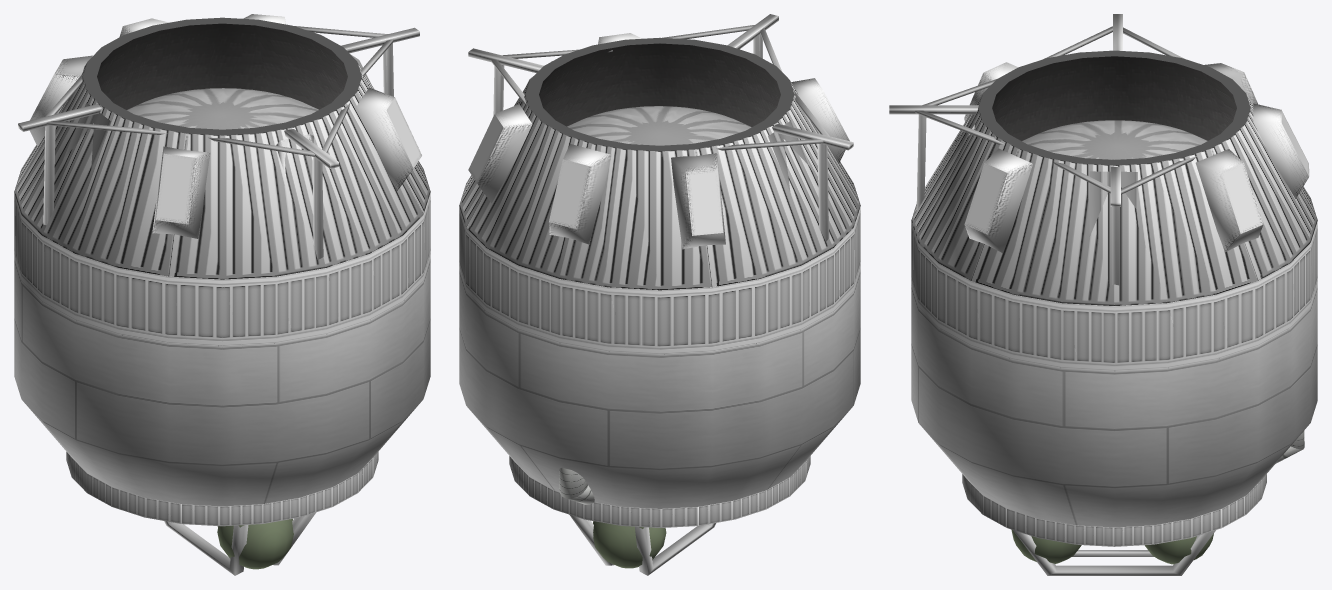
The model's file is CENTAUR_G.obj.
3 views of the same model, side by side, from view 1: azimuth 30°, elevation 25°; view 2: azimuth 150°, elevation 25°; view 3: azimuth 270°, elevation 25° (orthographic). The views are drawn at different scales.
Visible parts, largest first — view 1: Cylinder2_Cylinder2_auv, Cylinder2_Cube2_auv; view 2: Cylinder2_Cylinder2_auv, Cylinder2_Cube2_auv; view 3: Cylinder2_Cylinder2_auv, Cylinder2_Cube2_auv.
Boxes of the visible parts, box(x1,y1,x2,y2) form: Cylinder2_Cylinder2_auv: box(14, 14, 430, 575); Cylinder2_Cube2_auv: box(18, 26, 419, 259); Cylinder2_Cylinder2_auv: box(459, 33, 860, 575); Cylinder2_Cube2_auv: box(468, 14, 853, 241); Cylinder2_Cylinder2_auv: box(911, 50, 1317, 575); Cylinder2_Cube2_auv: box(889, 14, 1196, 285).
Bounding box in the file's own units: 4.39 × 4.97 × 4.22.
